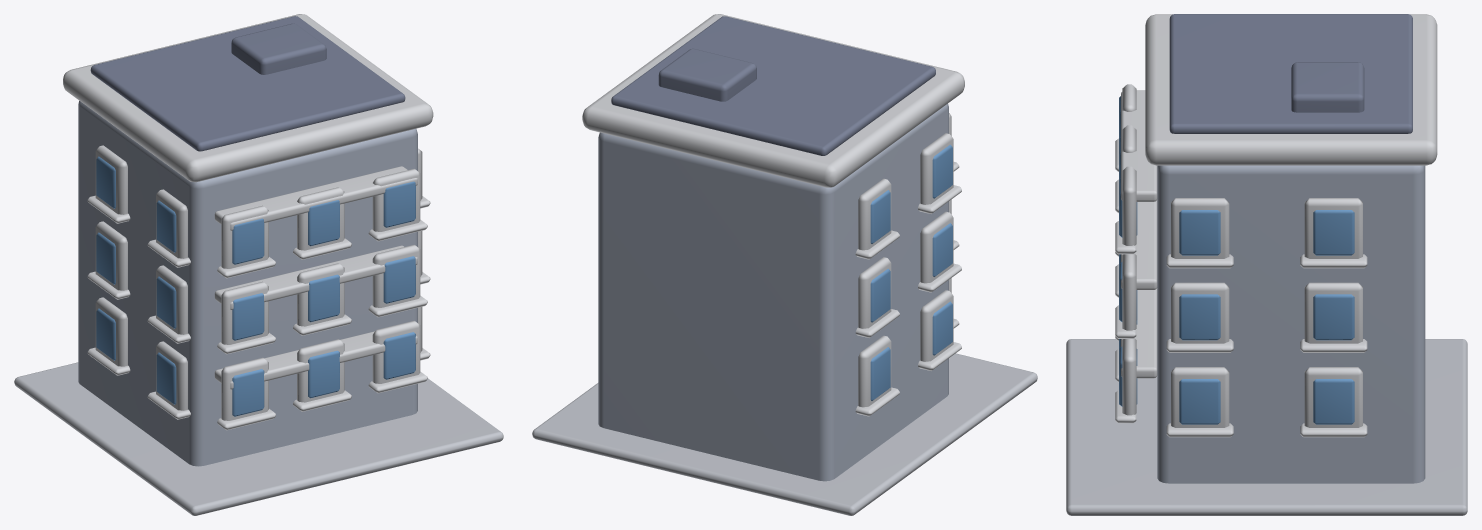
3 views of the same model, side by side, from view 1: azimuth 30°, elevation 25°; view 2: azimuth 150°, elevation 25°; view 3: azimuth 270°, elevation 25° (orthographic). The views are drawn at different scales.
Parts seen in each view (by area): view 1: Cube; view 2: Cube; view 3: Cube.
Part boxes in pixels (x1,y1,x2,y2): Cube: (14,14,503,515); Cube: (532,14,1037,515); Cube: (1066,14,1467,515).
Bounding box in the file's own units: 0.66 × 0.69 × 0.66.
